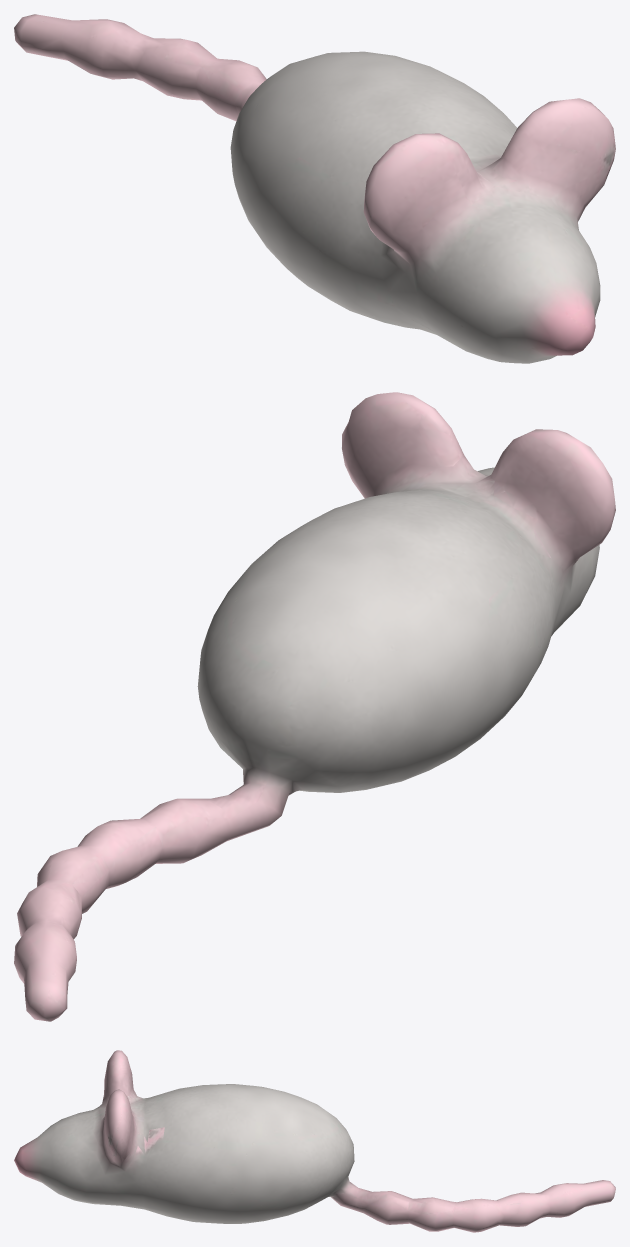
Rendered from mouse_toy.glb.
3 views of the same model, one above another, from view 1: azimuth 30°, elevation 25°; view 2: azimuth 150°, elevation 25°; view 3: azimuth 270°, elevation 25° (orthographic). The views are drawn at different scales.
Parts seen in each view (by area): view 1: mouse_toy.001; view 2: mouse_toy.001; view 3: mouse_toy.001.
Boxes of the visible parts, left/top/right/bottom form: mouse_toy.001: left=14, top=14, right=615, bottom=363; mouse_toy.001: left=14, top=392, right=615, bottom=1021; mouse_toy.001: left=14, top=1050, right=615, bottom=1232.
Size of the model in its own units: 0.0733 by 0.0704 by 0.2692.
1 material, 1 textured.
